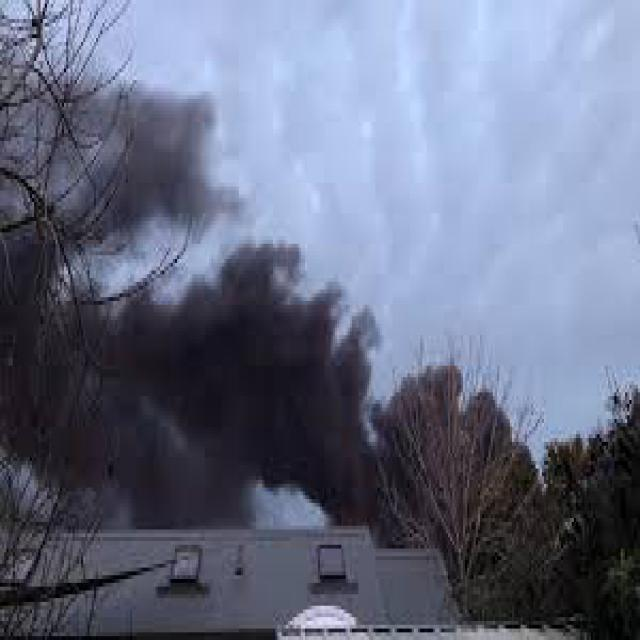Smoke: (23, 77, 400, 520)
